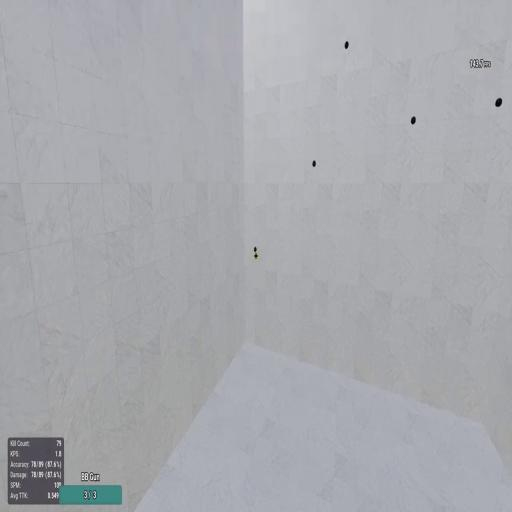Crosshair: (254, 252, 258, 260)
Target: (494, 97, 503, 108), (410, 115, 418, 126), (344, 40, 350, 50), (312, 158, 317, 168), (253, 245, 258, 253)
